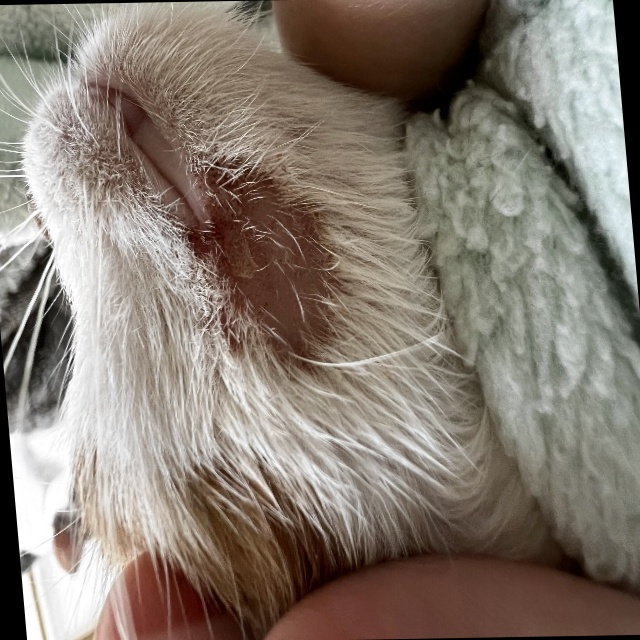ringworm: (198, 168, 334, 381)
